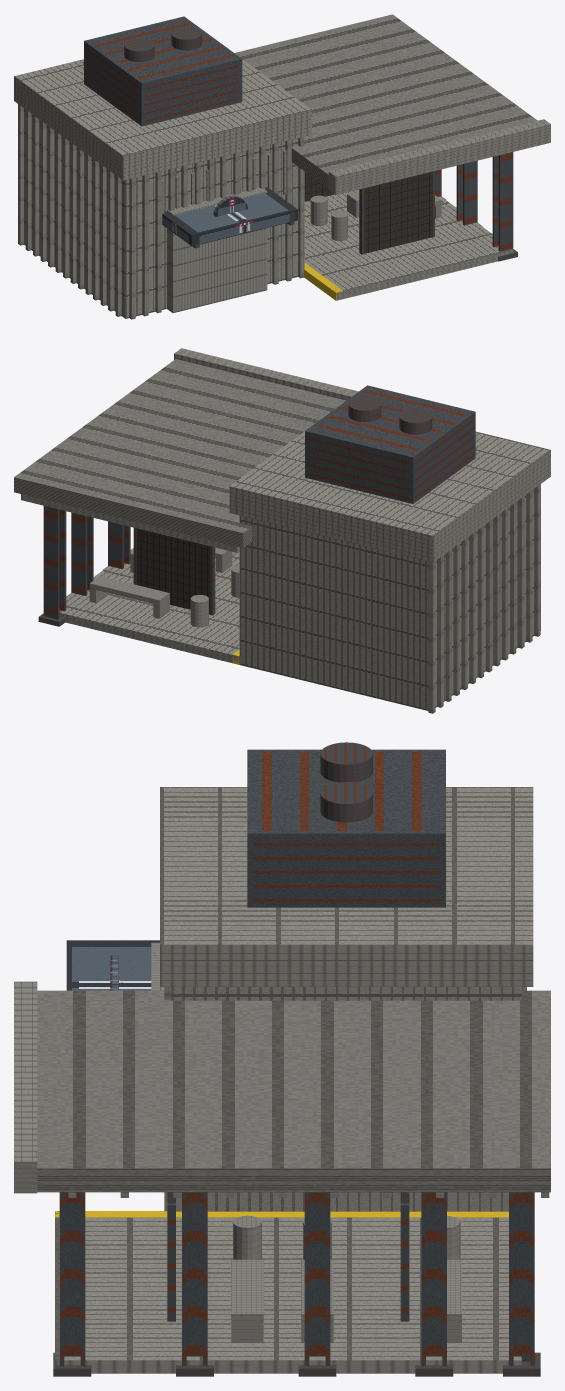
File: building_bus_station_var3_brutalist.glb
The picture shows the model from 3 angles, top to bottom: view 1: azimuth 30°, elevation 25°; view 2: azimuth 150°, elevation 25°; view 3: azimuth 270°, elevation 25°; orthographic projection. The views are drawn at different scales.
Visible parts, largest first — view 1: Building_Bus_Station_Var3_Brutalist; view 2: Building_Bus_Station_Var3_Brutalist; view 3: Building_Bus_Station_Var3_Brutalist.
Part boxes in pixels (x1,y1,x2,y2): Building_Bus_Station_Var3_Brutalist: (14,14,550,319); Building_Bus_Station_Var3_Brutalist: (14,348,550,713); Building_Bus_Station_Var3_Brutalist: (14,742,550,1376).
Bounding box in the file's own units: 13.05 × 7.15 × 9.2.
1 material, 1 textured.
